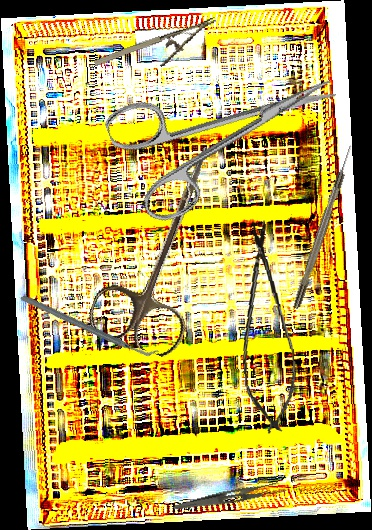Chopper: (19, 253, 159, 398)
Dressing Forceps: (172, 475, 288, 523)
Hook Surgical: (291, 143, 356, 310)
Iris Scissors: (101, 33, 357, 231), (83, 128, 247, 362)
Micro Scissor: (231, 218, 301, 437)
Needle Holder: (92, 16, 225, 87)
